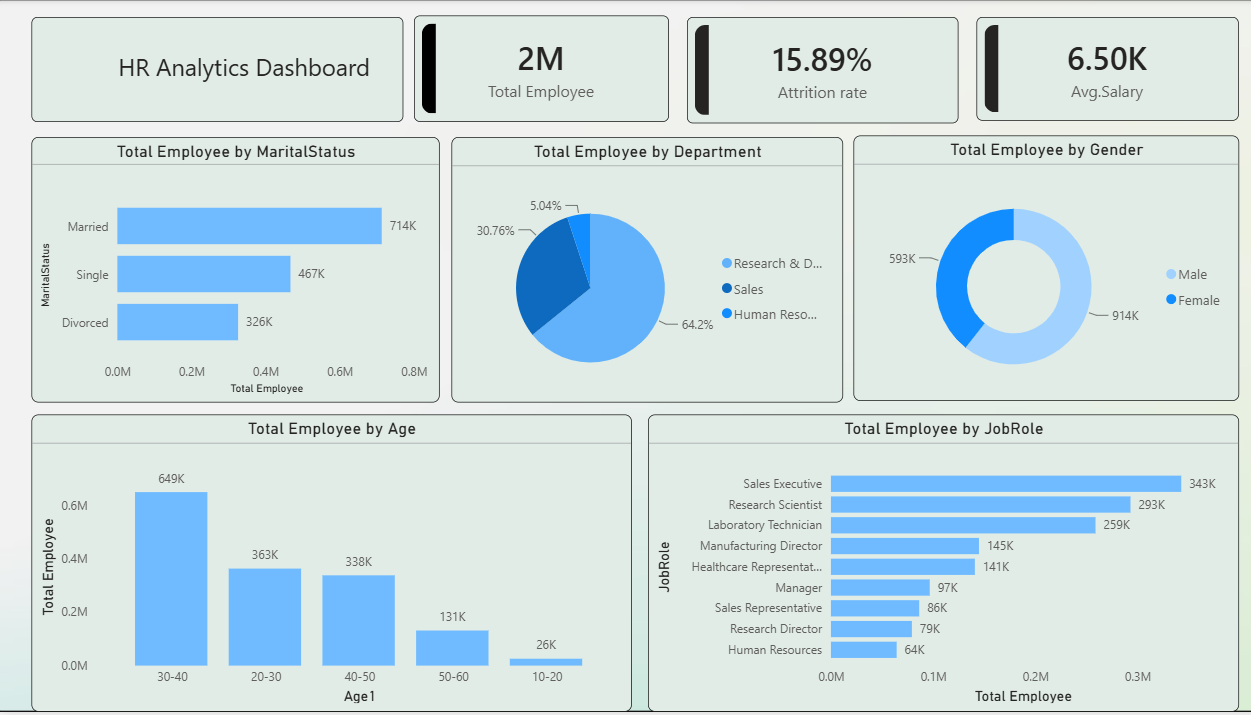

This screenshot's page, from the dashboard's own definition file:
{"tool":"powerbi","page":{"name":"Page 1","canvas":[1280,720],"ordinal":0},"visuals":[{"type":"cardVisual","fields":{"Data":["WA_Fn-UseC_-HR-Employee-Attrition.Total Employee"]},"box":[420.9,16.7,257.4,107.5],"z":0},{"type":"cardVisual","fields":{"Data":["WA_Fn-UseC_-HR-Employee-Attrition.Attribution rate"]},"box":[696.5,18.2,274.1,107.5],"z":1000},{"type":"cardVisual","fields":{"Data":["WA_Fn-UseC_-HR-Employee-Attrition.Avg.Salary"]},"box":[988.8,18.2,265,104.5],"z":2000},{"type":"donutChart","fields":{"Category":["WA_Fn-UseC_-HR-Employee-Attrition.Gender"],"Y":["WA_Fn-UseC_-HR-Employee-Attrition.Total Employee"]},"box":[864.6,137.8,389.2,268],"z":3000},{"type":"barChart","fields":{"Category":["WA_Fn-UseC_-HR-Employee-Attrition.JobRole"],"Y":["WA_Fn-UseC_-HR-Employee-Attrition.Total Employee"]},"box":[657.2,419.4,596.6,299.8],"z":4000},{"type":"columnChart","title":"Total Employee by Age","fields":{"Y":["WA_Fn-UseC_-HR-Employee-Attrition.Total Employee"],"Category":["WA_Fn-UseC_-HR-Employee-Attrition.Age1"]},"box":[34.8,419.4,605.7,299.8],"z":5000},{"type":"pieChart","fields":{"Category":["WA_Fn-UseC_-HR-Employee-Attrition.Department"],"Y":["WA_Fn-UseC_-HR-Employee-Attrition.Total Employee"]},"box":[458.8,139.3,395.2,268],"z":6000},{"type":"barChart","fields":{"Category":["WA_Fn-UseC_-HR-Employee-Attrition.MaritalStatus"],"Y":["WA_Fn-UseC_-HR-Employee-Attrition.Total Employee"]},"box":[34.8,139.3,411.9,268],"z":7000},{"type":"textbox","box":[34.8,18.2,375.5,106],"z":9000}]}

Visuals, with their boxes in screenshot pixels (x1, y1, x2, y2), scaled from the page's 1280x720 canvas onto the 1251x715 screenshot:
cardVisual - WA_Fn-UseC_-HR-Employee-Attrition.Total Employee: pyautogui.locateOnScreen(411, 17, 663, 123)
cardVisual - WA_Fn-UseC_-HR-Employee-Attrition.Attribution rate: pyautogui.locateOnScreen(681, 18, 949, 125)
cardVisual - WA_Fn-UseC_-HR-Employee-Attrition.Avg.Salary: pyautogui.locateOnScreen(966, 18, 1225, 122)
donutChart - WA_Fn-UseC_-HR-Employee-Attrition.Gender x WA_Fn-UseC_-HR-Employee-Attrition.Total Employee: pyautogui.locateOnScreen(845, 137, 1225, 403)
barChart - WA_Fn-UseC_-HR-Employee-Attrition.JobRole x WA_Fn-UseC_-HR-Employee-Attrition.Total Employee: pyautogui.locateOnScreen(642, 416, 1225, 714)
"Total Employee by Age" columnChart: pyautogui.locateOnScreen(34, 416, 626, 714)
pieChart - WA_Fn-UseC_-HR-Employee-Attrition.Department x WA_Fn-UseC_-HR-Employee-Attrition.Total Employee: pyautogui.locateOnScreen(448, 138, 835, 404)
barChart - WA_Fn-UseC_-HR-Employee-Attrition.MaritalStatus x WA_Fn-UseC_-HR-Employee-Attrition.Total Employee: pyautogui.locateOnScreen(34, 138, 437, 404)
textbox: pyautogui.locateOnScreen(34, 18, 401, 123)
